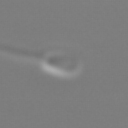normal: (1, 37, 42, 70)
